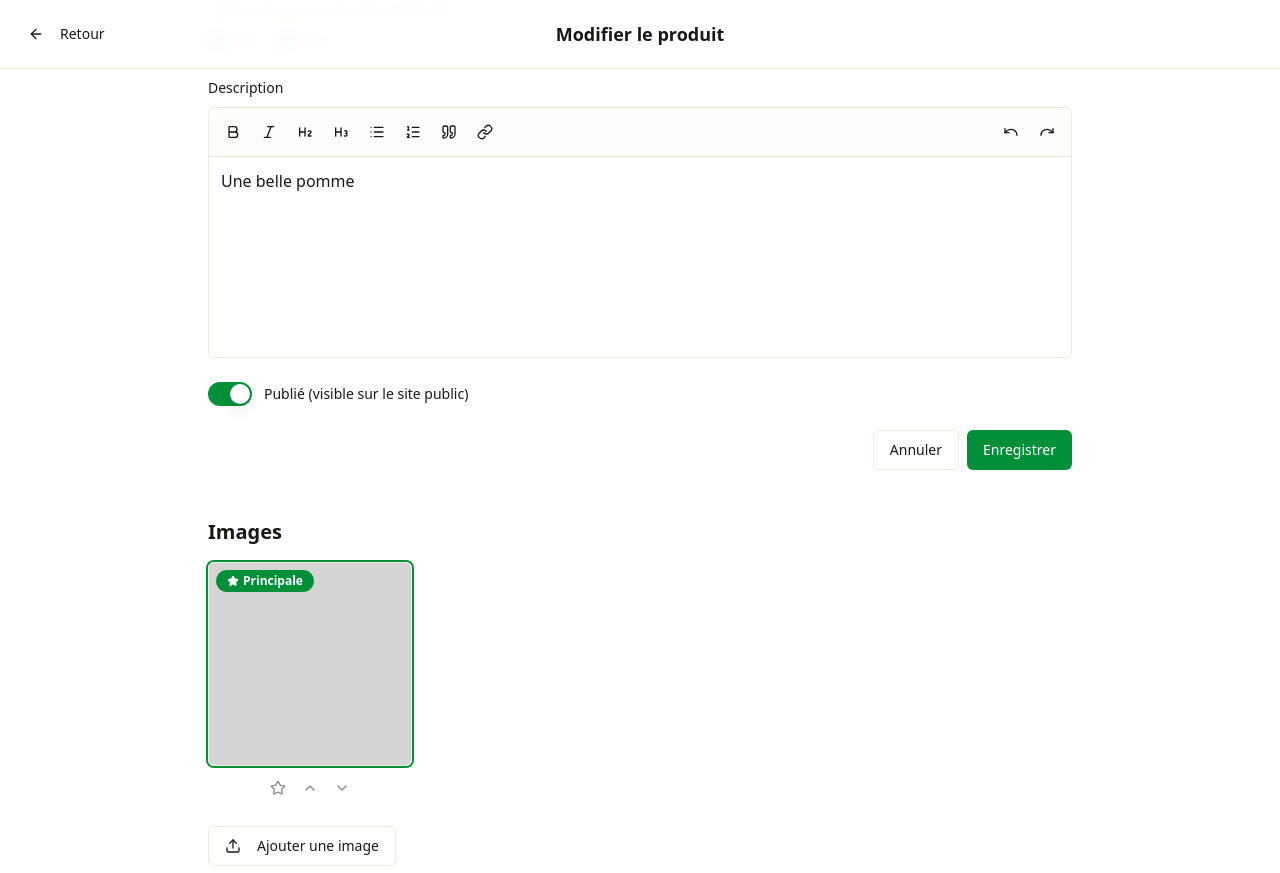
Test: Admin ProductForm — mode édition › soumission → PATCH /api/admin/products/:id
This screenshot has width=1280, height=873.
(page scrolled)
Click the button "Enregistrer" at (1020, 450), box left=967, top=430, right=1072, bottom=470
(page scrolled)
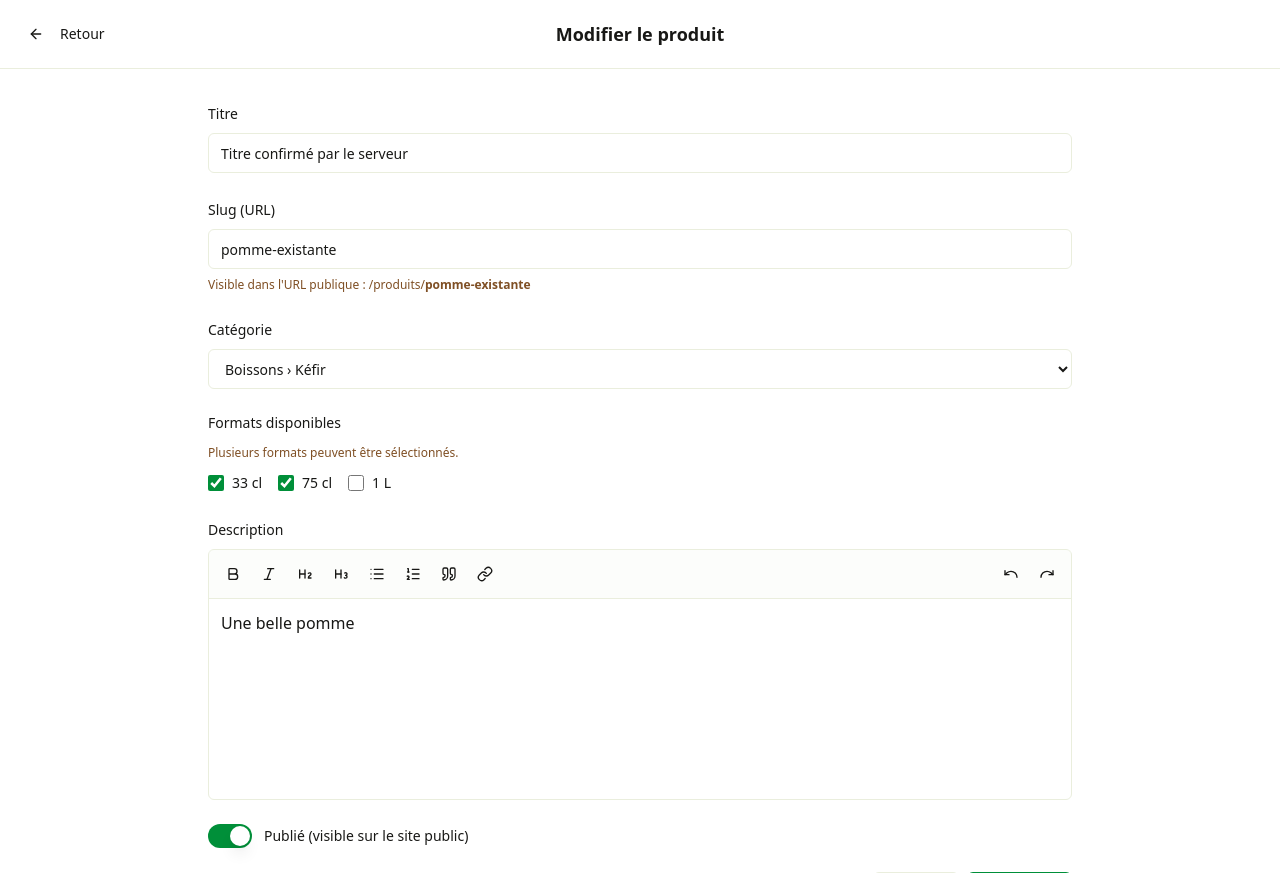
expect the field showing "Titre confirmé par le serveur" is shown: met, box left=208, top=133, right=1072, bottom=173
